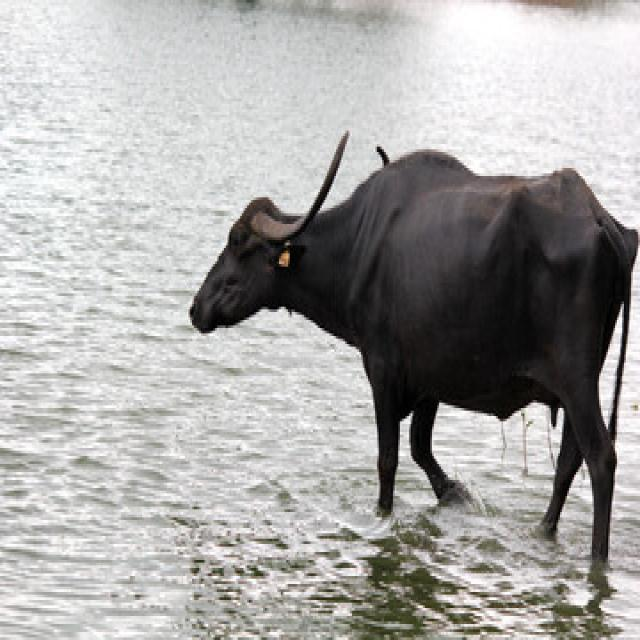Buffalo: (187, 126, 638, 566)
